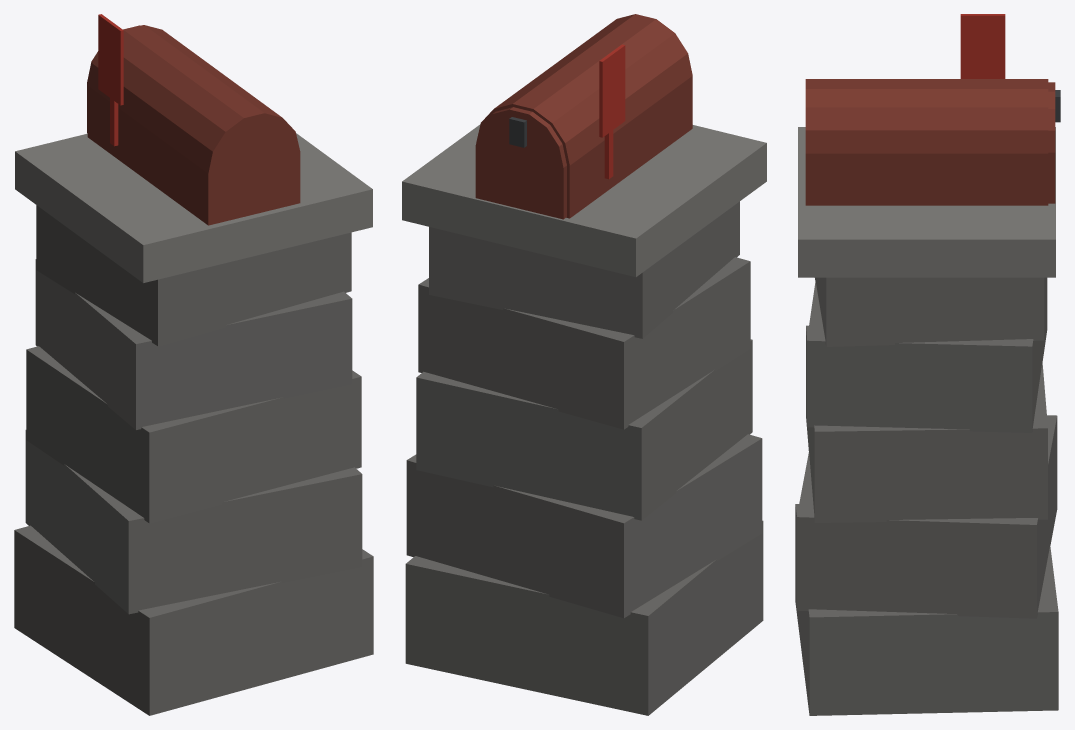
The model's file is mailbox-pillar.glb.
The picture shows the model from 3 angles, left to right: view 1: azimuth 30°, elevation 25°; view 2: azimuth 150°, elevation 25°; view 3: azimuth 270°, elevation 25°; orthographic projection.
Parts seen in each view (by area): view 1: MailboxPillar, Flag; view 2: MailboxPillar, Flag; view 3: MailboxPillar, Flag.
Part boxes in pixels (x1,y1,x2,y2): MailboxPillar: [14, 25, 373, 715]; Flag: [98, 14, 123, 146]; MailboxPillar: [402, 14, 766, 715]; Flag: [599, 44, 625, 179]; MailboxPillar: [795, 79, 1060, 715]; Flag: [960, 14, 1005, 78].
Bounding box in the file's own units: 0.5278 × 1.27 × 0.4974.
